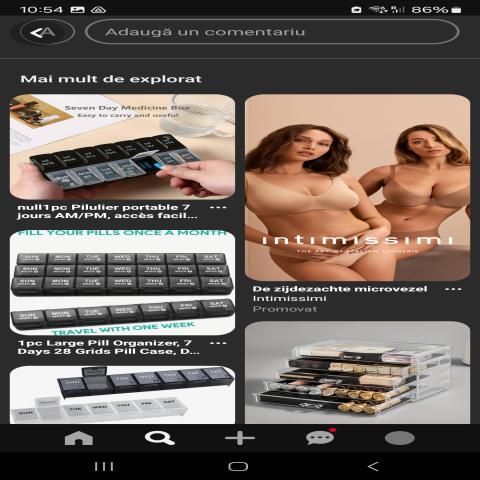Pill-box: (18, 243, 249, 296), (25, 135, 214, 191), (44, 365, 231, 396)
